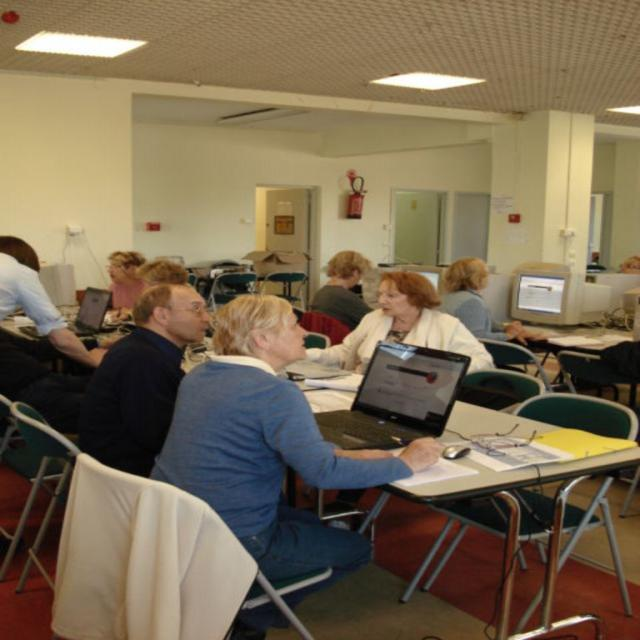chair: (51, 452, 333, 639), (511, 391, 640, 518), (0, 403, 82, 595), (556, 350, 639, 409), (476, 338, 550, 390), (458, 369, 542, 411), (300, 310, 355, 347)
desk: (3, 325, 639, 639)
laptop: (313, 341, 469, 450), (71, 286, 112, 335)
mouse: (442, 444, 471, 459)
person: (148, 294, 445, 588), (78, 284, 212, 478), (298, 271, 500, 377), (0, 238, 105, 430), (436, 257, 538, 344), (306, 250, 378, 332), (105, 250, 147, 315)
tv: (512, 272, 569, 322)
